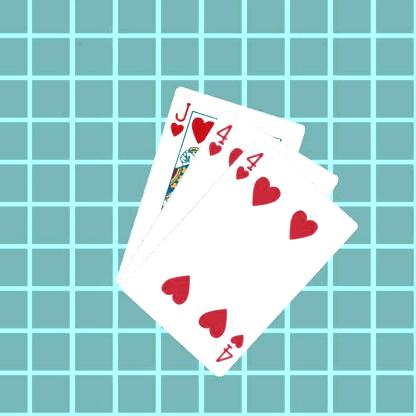4H: (212, 330, 246, 364), (232, 149, 266, 181), (205, 121, 234, 157)
JH: (166, 99, 192, 138)
